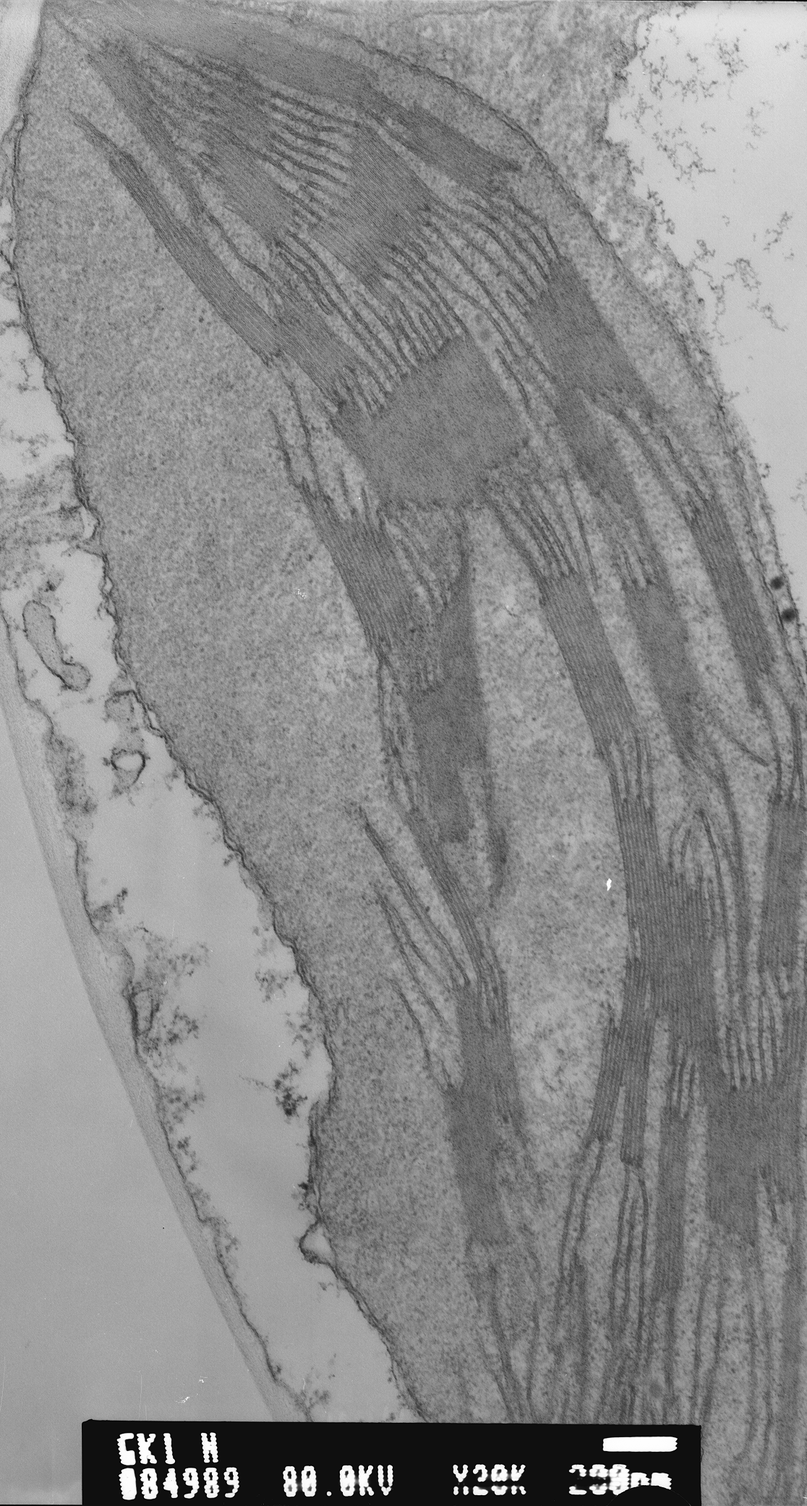granum: (98, 141, 375, 402), (610, 792, 738, 1106), (330, 324, 534, 518), (104, 0, 400, 129), (518, 251, 677, 437), (697, 998, 807, 1255), (302, 110, 447, 292), (402, 565, 493, 845), (438, 982, 530, 1255), (300, 482, 434, 663), (532, 563, 642, 757), (398, 804, 510, 986), (685, 494, 785, 697), (80, 35, 202, 190), (575, 955, 661, 1173), (622, 575, 710, 753), (192, 116, 300, 259), (391, 96, 524, 206), (544, 392, 642, 520), (752, 790, 807, 982), (648, 1102, 695, 1308), (771, 1235, 807, 1475), (208, 80, 281, 161)
